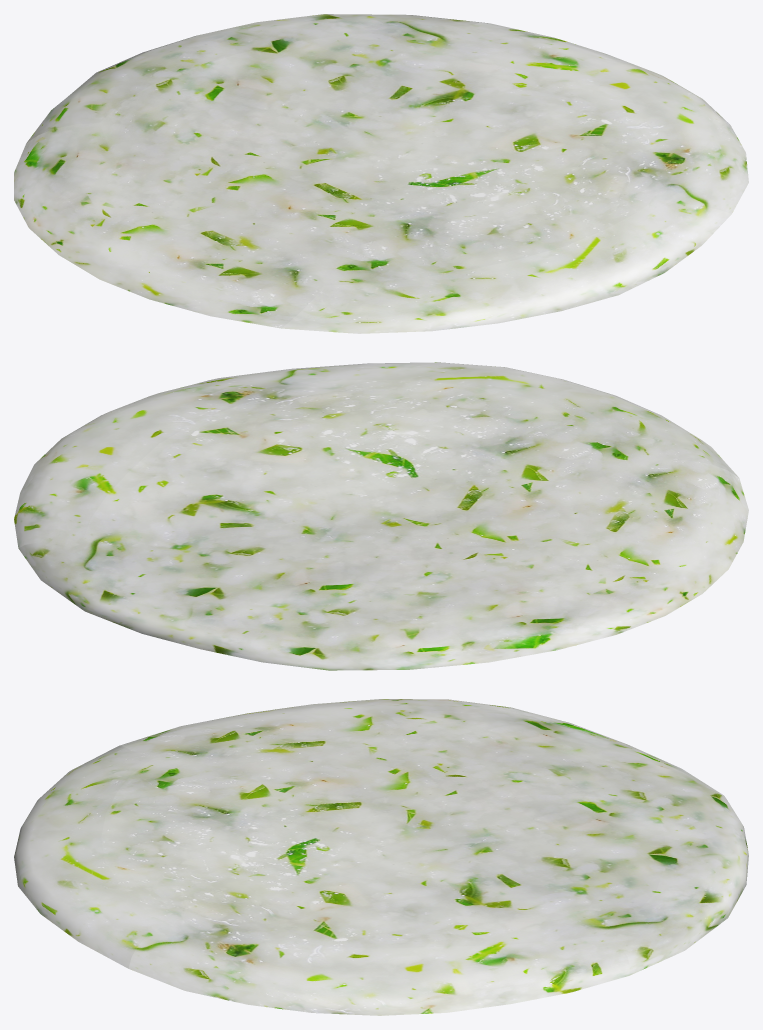
File: only_porridge_for_pot.FBX
The picture shows the model from 3 angles, top to bottom: view 1: azimuth 30°, elevation 25°; view 2: azimuth 150°, elevation 25°; view 3: azimuth 270°, elevation 25°; orthographic projection.
Parts seen in each view (by area): view 1: Box003; view 2: Box003; view 3: Box003.
Boxes of the visible parts, x1,y1,x2,y2 form: Box003: (14, 14, 748, 333); Box003: (14, 362, 748, 670); Box003: (14, 699, 748, 1015).
Size of the model in its own units: 29.02 by 1 by 28.55.
Materials: 1 (1 with a texture image).
